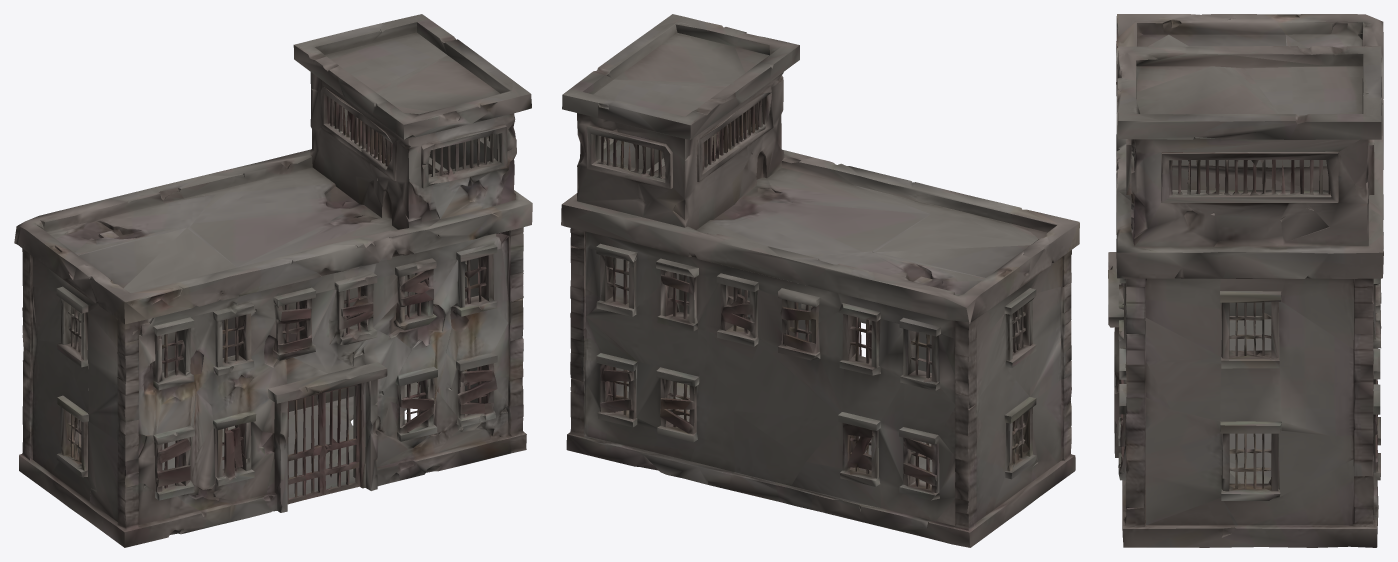
The model's file is police_station_b_idle.glb.
3 renders of one model, left to right at view 1: azimuth 30°, elevation 25°; view 2: azimuth 150°, elevation 25°; view 3: azimuth 270°, elevation 25°, orthographic. The views are drawn at different scales.
Visible parts, largest first — view 1: tripo_node_db487843-c9f2-4b1c-9d67-95bd208adb35; view 2: tripo_node_db487843-c9f2-4b1c-9d67-95bd208adb35; view 3: tripo_node_db487843-c9f2-4b1c-9d67-95bd208adb35.
Part boxes in pixels (box(x1,y1,x2,y2)): tripo_node_db487843-c9f2-4b1c-9d67-95bd208adb35: box(14, 14, 532, 547); tripo_node_db487843-c9f2-4b1c-9d67-95bd208adb35: box(561, 14, 1079, 547); tripo_node_db487843-c9f2-4b1c-9d67-95bd208adb35: box(1108, 14, 1383, 547).
Bounding box in the file's own units: 12 × 10.04 × 5.85.
Materials: 1 (1 with a texture image).
